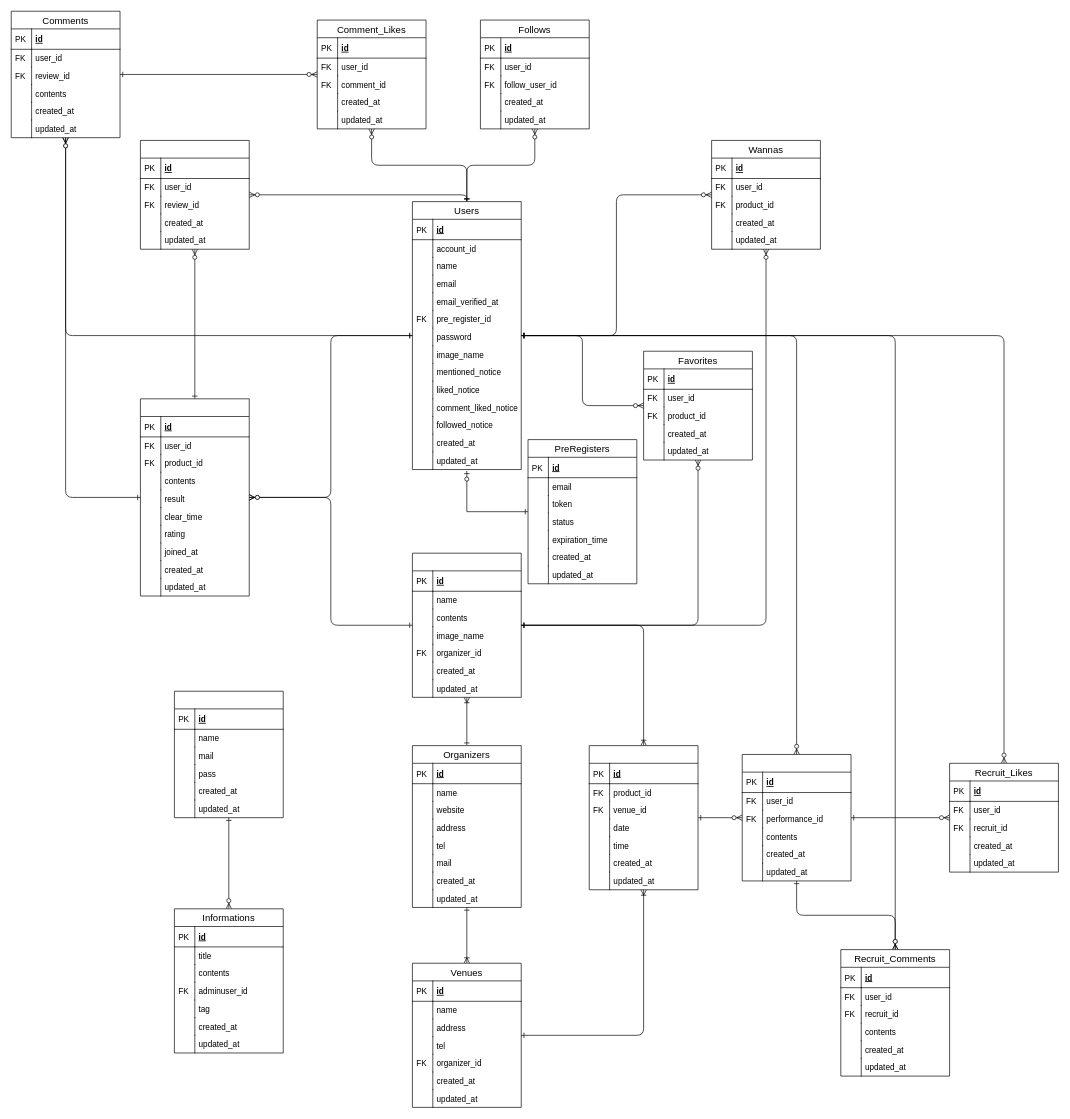
This 1070x1119 diagram has some shape labels left out. The shapes that lost their labels are listed below. From the top down, each one's box as (x1, y1, x2, y2) in pixels, then its label:
(140, 140, 249, 249): Post_Likes
(140, 398, 249, 596): Reviews
(412, 552, 521, 697): Products
(174, 691, 283, 818): Admins
(589, 745, 698, 890): Performances
(742, 754, 851, 881): Recruit_Accompanies
